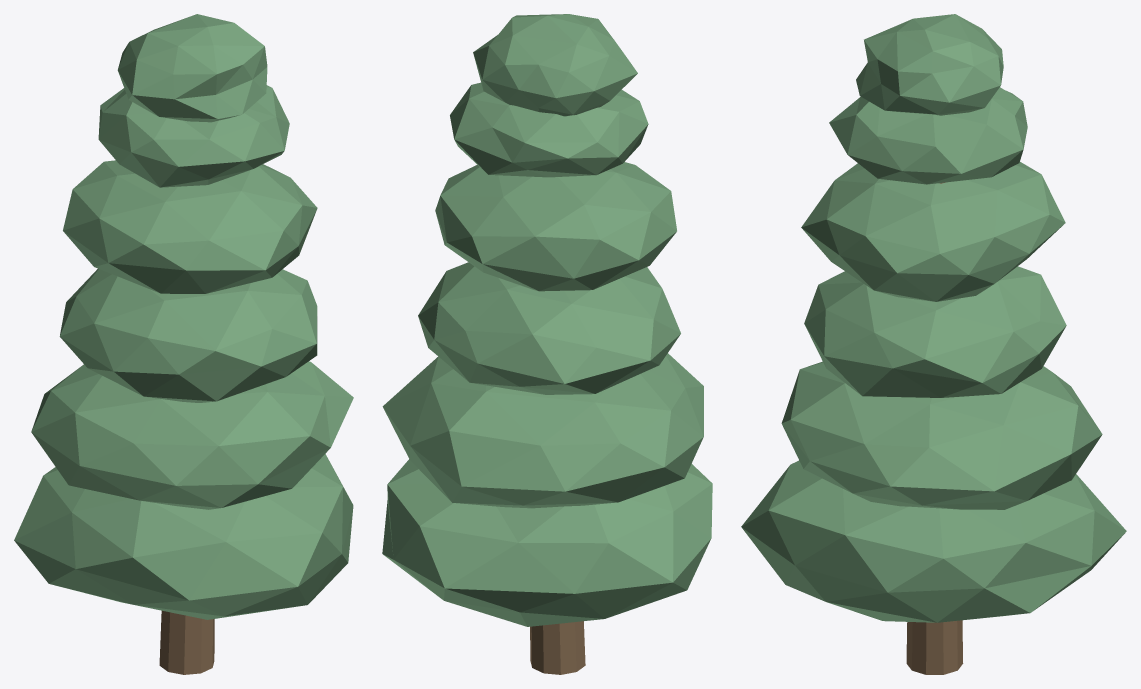
Rendered from detailed_pine_a.glb.
The picture shows the model from 3 angles, left to right: view 1: azimuth 30°, elevation 25°; view 2: azimuth 150°, elevation 25°; view 3: azimuth 270°, elevation 25°; orthographic projection.
Visible parts, largest first — view 1: DetailedPine_3; view 2: DetailedPine_3; view 3: DetailedPine_3.
Part boxes in pixels (<box>): DetailedPine_3: <box>14,14,353,674</box>; DetailedPine_3: <box>382,14,712,674</box>; DetailedPine_3: <box>741,14,1126,674</box>.
Size of the model in its own units: 2.14 by 4.5 by 2.45.
